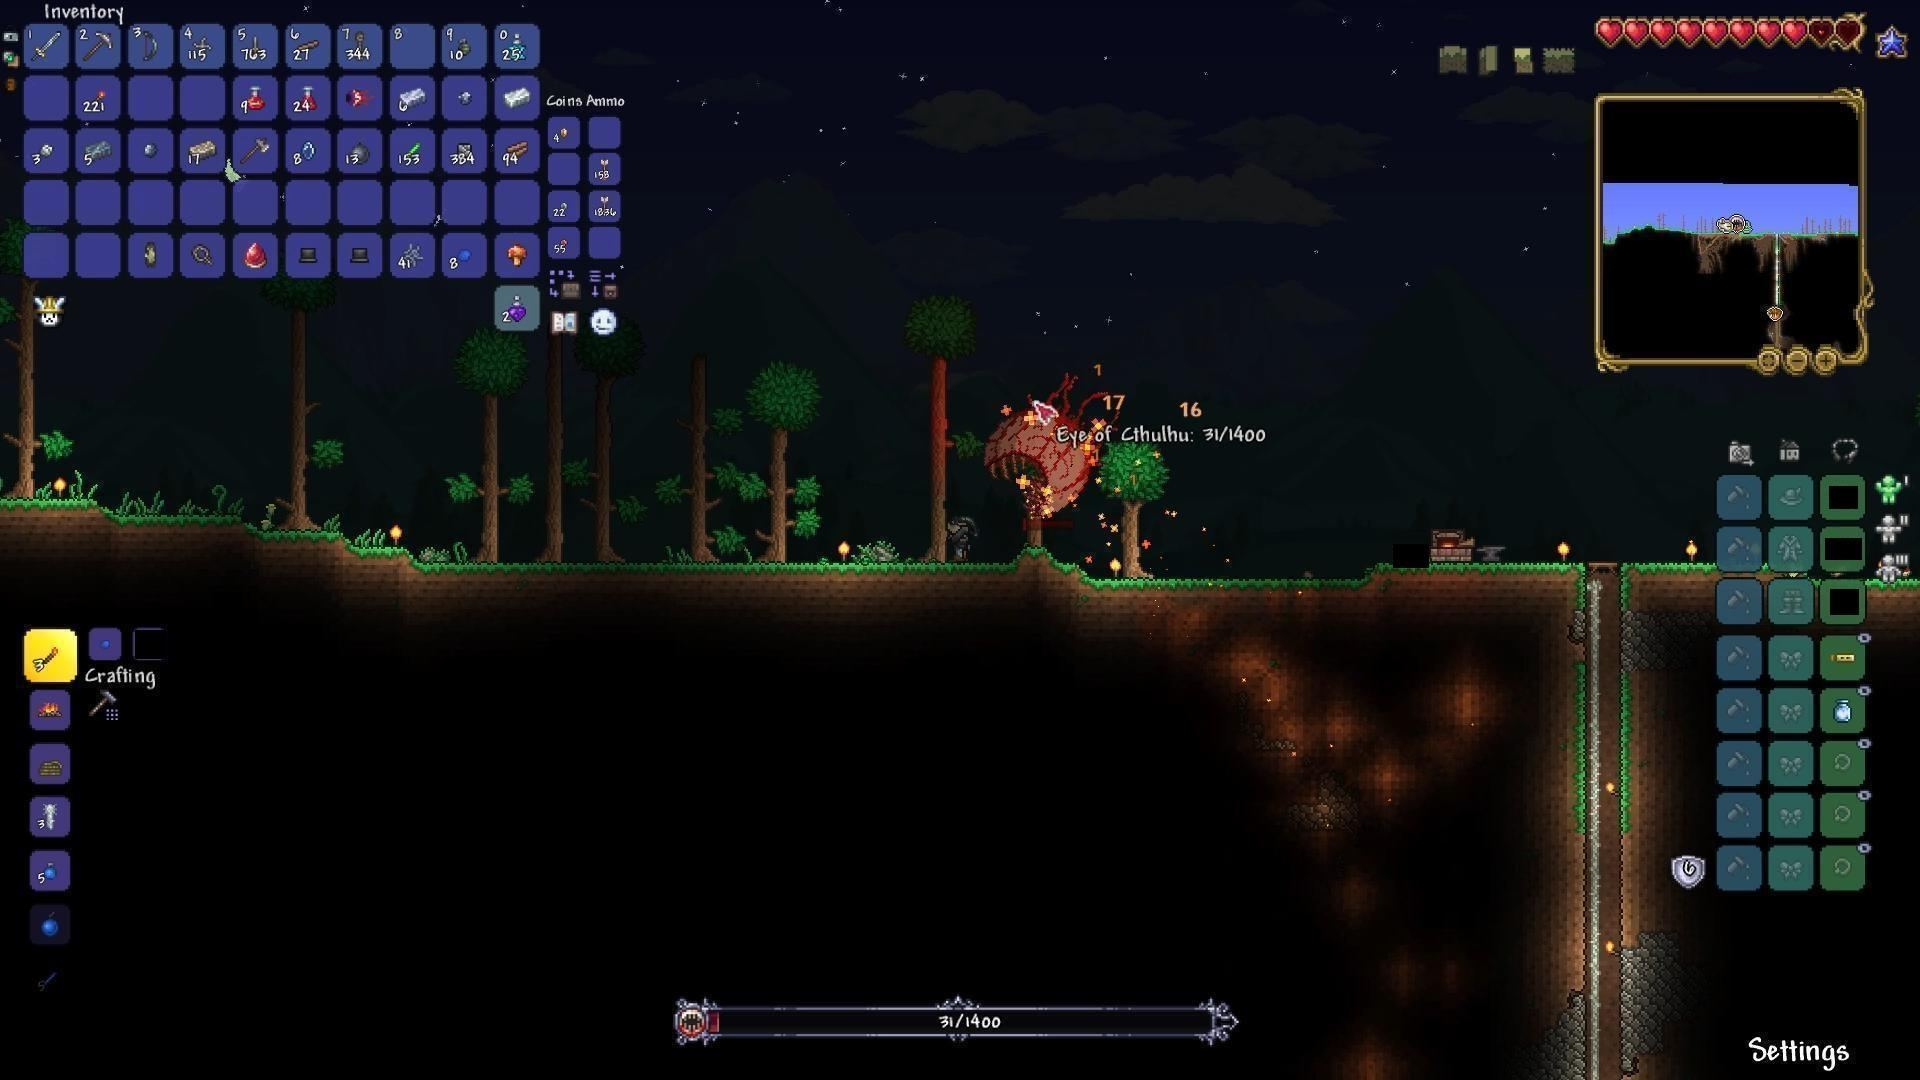wood: (500, 137, 530, 165)
